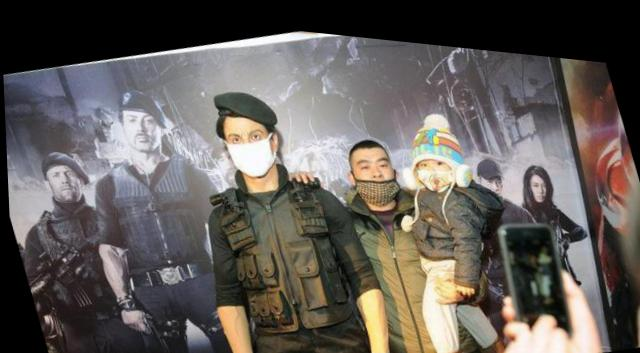NONE: (122, 108, 164, 153), (46, 164, 83, 205), (480, 164, 505, 192), (528, 167, 553, 194)
OK: (224, 117, 279, 174), (411, 139, 456, 186)
WRONG: (345, 140, 404, 201)
